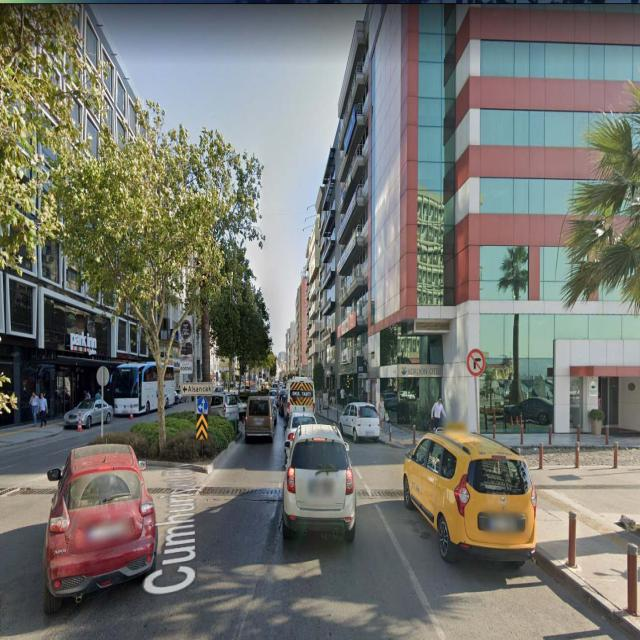ilerisol: (198, 398, 207, 416)
sagadonulmez: (466, 349, 485, 376)
